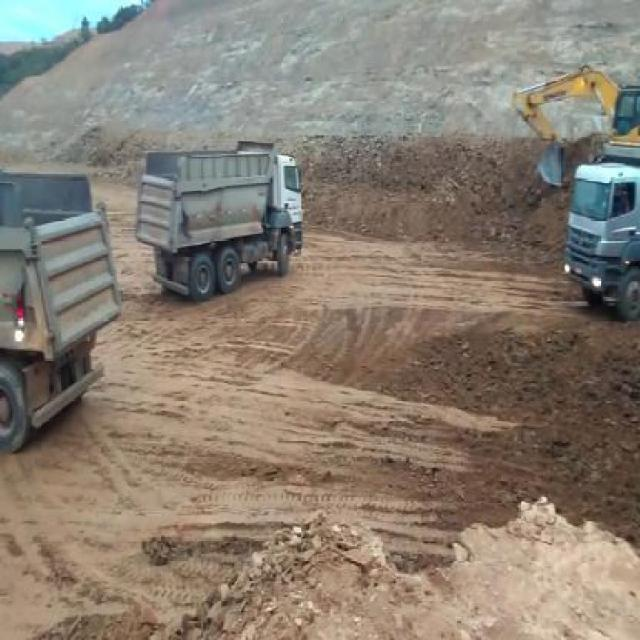Dump Truck: (0, 164, 123, 456), (134, 138, 304, 302), (561, 162, 639, 321)
Excavator: (511, 61, 638, 190)
